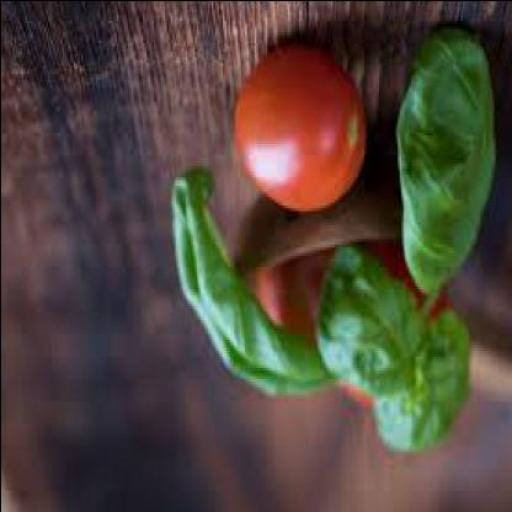biodegradable: (171, 168, 335, 397), (234, 254, 452, 406), (397, 28, 499, 294), (234, 34, 368, 216), (314, 246, 426, 400), (378, 316, 471, 448)
